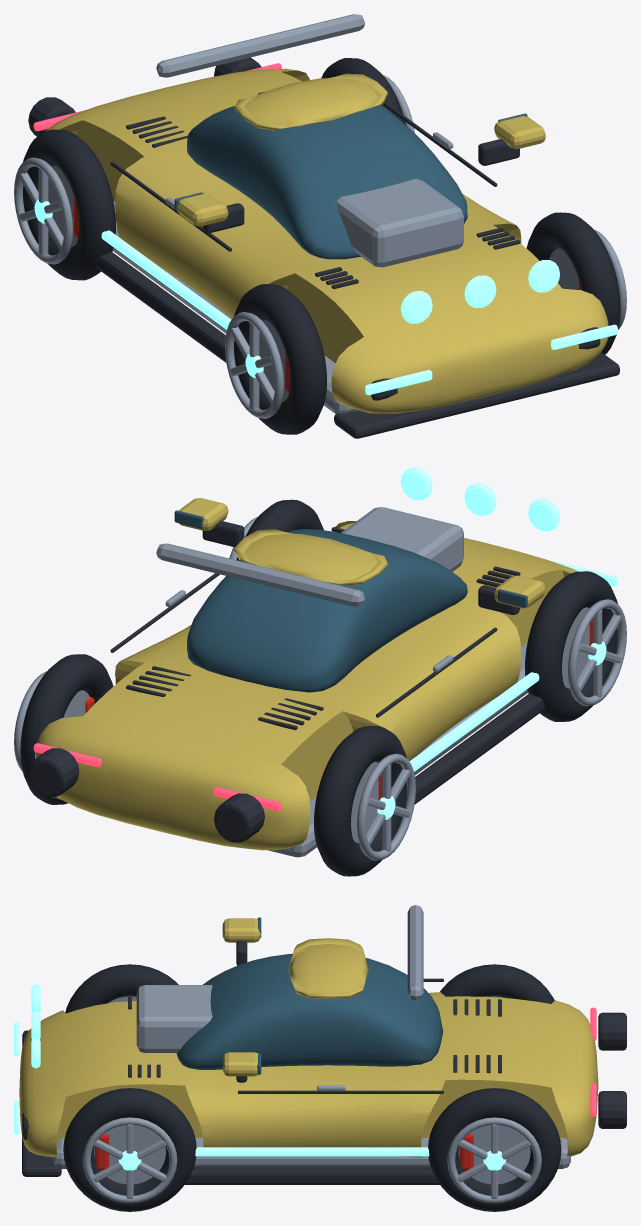
The model's file is Nomad.fbx.
3 views of the same model, one above another, from view 1: azimuth 30°, elevation 25°; view 2: azimuth 150°, elevation 25°; view 3: azimuth 270°, elevation 25° (orthographic). The views are drawn at different scales.
Parts seen in each view (by area): view 1: Body_Nomad, Glass_Cockpit, Body_HoodIntake, Wheel_LFront, Wheel_LRear, Body_Roof, Wheel_RFront, Carbon_FrontSplitter, Body_RearRollBar, Carbon_SideSkirt, WheelRim_LRear, WheelRim_LFront (+18 smaller); view 2: Body_Nomad, Glass_Cockpit, Wheel_LRear, Wheel_LFront, Body_Roof, Wheel_RRear, Body_HoodIntake, Body_RearRollBar, Carbon_SideSkirt, WheelRim_LFront, WheelRim_LRear, Exhaust_Nozzle.001 (+16 smaller); view 3: Body_Nomad, Glass_Cockpit, Wheel_RFront, Wheel_RRear, Body_HoodIntake, Carbon_SideSkirt.001, Body_Roof, Body_Undertray, Wheel_LRear, Wheel_LFront, Trim_Sill.001, WheelRim_RRear (+10 smaller).
Boxes of the visible parts, box(x1,y1,x2,y2) form: Body_Nomad: box(46, 68, 608, 413); Glass_Cockpit: box(187, 105, 467, 259); Body_HoodIntake: box(336, 178, 463, 267); Wheel_LFront: box(234, 284, 326, 434); Wheel_LRear: box(23, 129, 115, 280); Body_Roof: box(234, 73, 388, 130); Wheel_RFront: box(526, 212, 620, 354); Carbon_FrontSplitter: box(334, 352, 619, 438); Body_RearRollBar: box(156, 14, 364, 77); Carbon_SideSkirt: box(95, 252, 226, 362); WheelRim_LRear: box(14, 157, 72, 264); WheelRim_LFront: box(225, 312, 283, 418); Body_Nomad: box(35, 521, 577, 850); Glass_Cockpit: box(187, 529, 467, 692); Wheel_LRear: box(314, 726, 406, 876); Wheel_LFront: box(525, 571, 617, 721); Body_Roof: box(234, 529, 388, 585); Wheel_RRear: box(20, 654, 113, 804); Body_HoodIntake: box(341, 507, 463, 571); Body_RearRollBar: box(156, 543, 364, 606); Carbon_SideSkirt: box(414, 693, 545, 804); WheelRim_LFront: box(568, 599, 626, 706); WheelRim_LRear: box(357, 753, 415, 860); Exhaust_Nozzle.001: box(28, 748, 79, 797); Body_Nomad: box(19, 992, 598, 1157); Glass_Cockpit: box(176, 953, 443, 1069); Wheel_RFront: box(63, 1088, 196, 1211); Wheel_RRear: box(428, 1088, 561, 1211); Body_HoodIntake: box(136, 985, 212, 1052); Carbon_SideSkirt.001: box(184, 1167, 439, 1184); Body_Roof: box(288, 938, 368, 998); Body_Undertray: box(53, 1138, 570, 1168); Wheel_LRear: box(440, 964, 554, 1003); Wheel_LFront: box(65, 964, 178, 1013); Trim_Sill.001: box(195, 1147, 429, 1156); WheelRim_RRear: box(447, 1117, 541, 1203).
Size of the model in its own units: 221 by 141 by 386.
